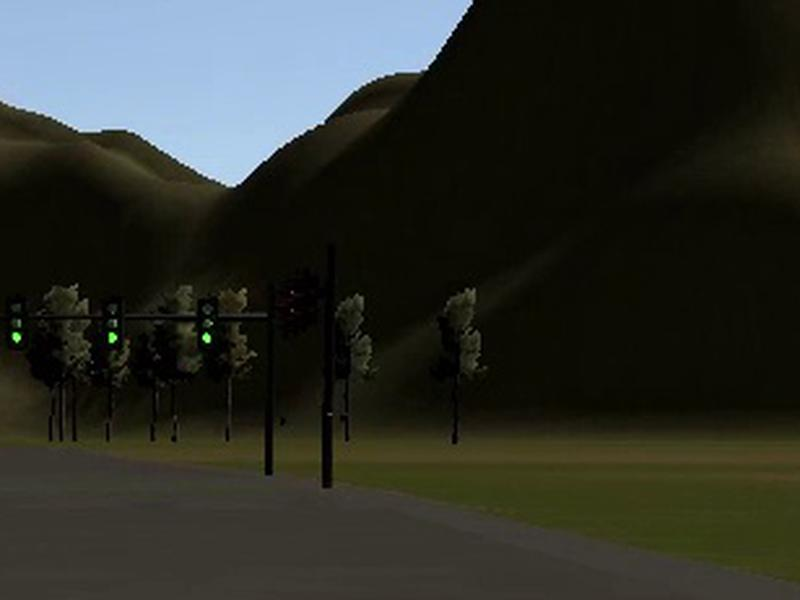Green: (198, 298, 220, 350), (7, 299, 27, 350), (105, 303, 124, 349)
